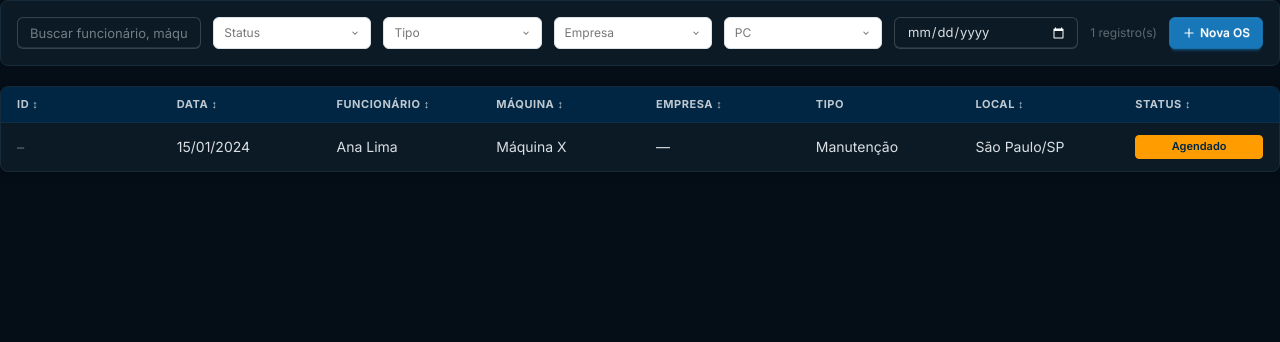
Test case: não navega ao clicar na row — exibe preview inline
The image size is (1280, 342).
Click the text "Ana Lima" at (400, 147), box [320,122,480,171]
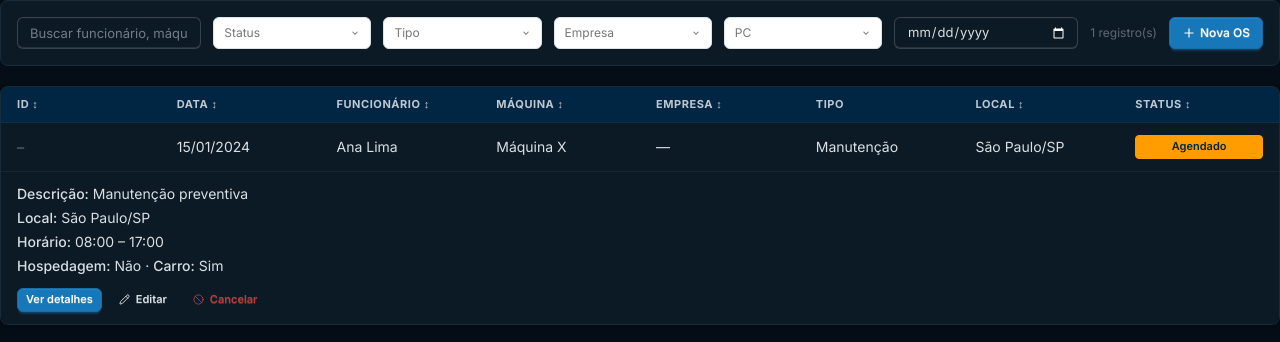
Expected: the element with test id "job-preview-job-1" is shown, [17,185,266,312]
